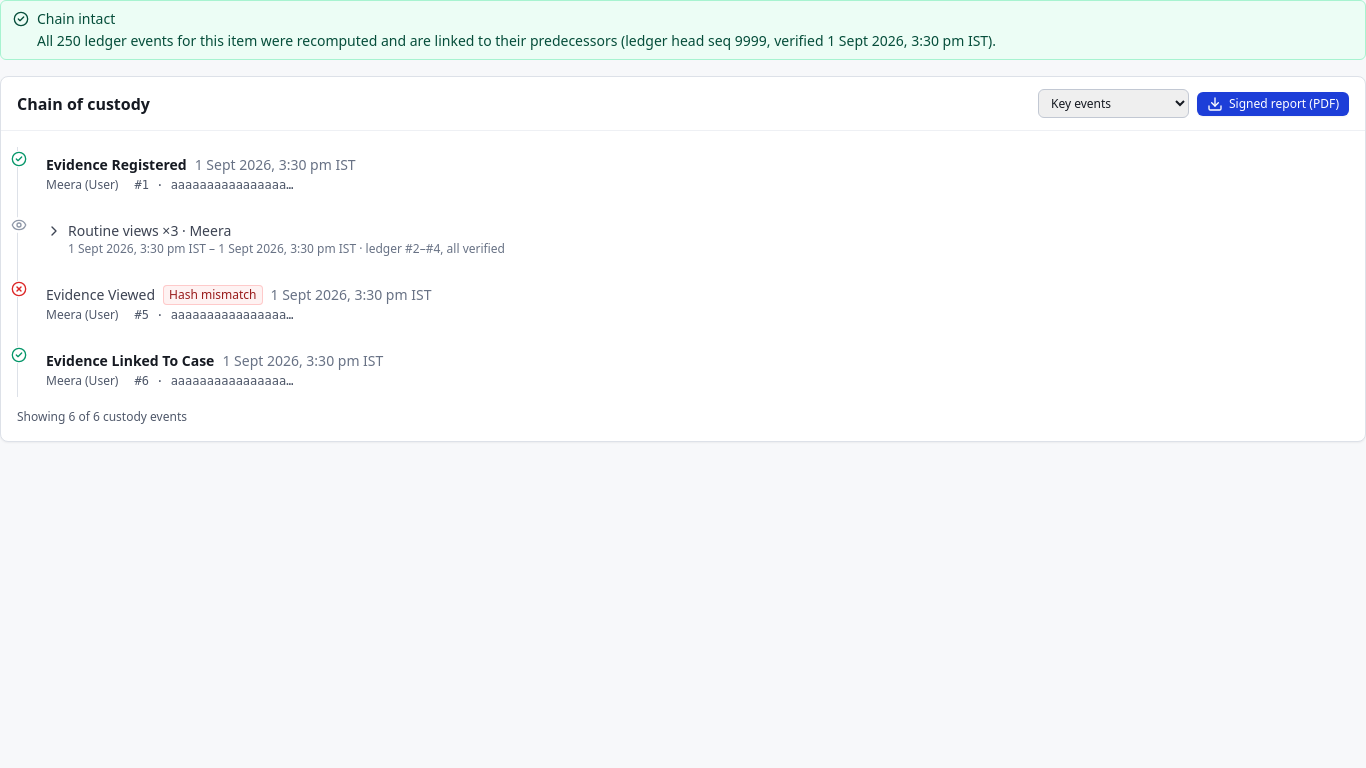
CustodyTab key events › collapses runs of routine views between milestones, never milestones or events that do not verify
Expected: the text "Evidence Registered" is shown, left=46, top=155, right=187, bottom=175
Expected: the text "Evidence Linked To Case" is shown, left=46, top=351, right=214, bottom=371
Click the button "Routine views ×3 · Meera" at (150, 230), box left=38, top=213, right=1349, bottom=265
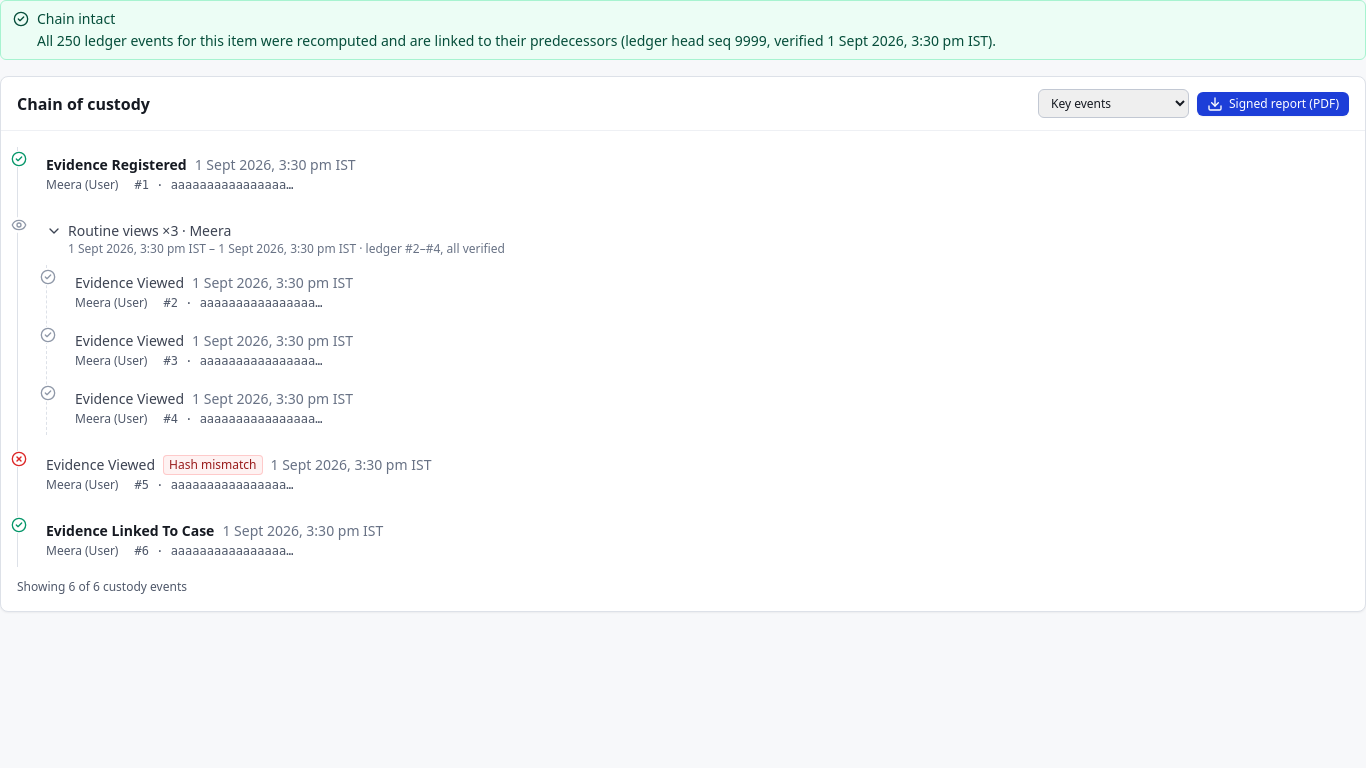
Expected: the text "Evidence Viewed" is shown 4 times, left=75, top=273, right=184, bottom=293; left=75, top=331, right=184, bottom=351; left=75, top=389, right=184, bottom=409; left=46, top=455, right=155, bottom=475
Select "Every custody event" in the dropdown named "Show" at (1114, 104), box left=1038, top=89, right=1189, bottom=118
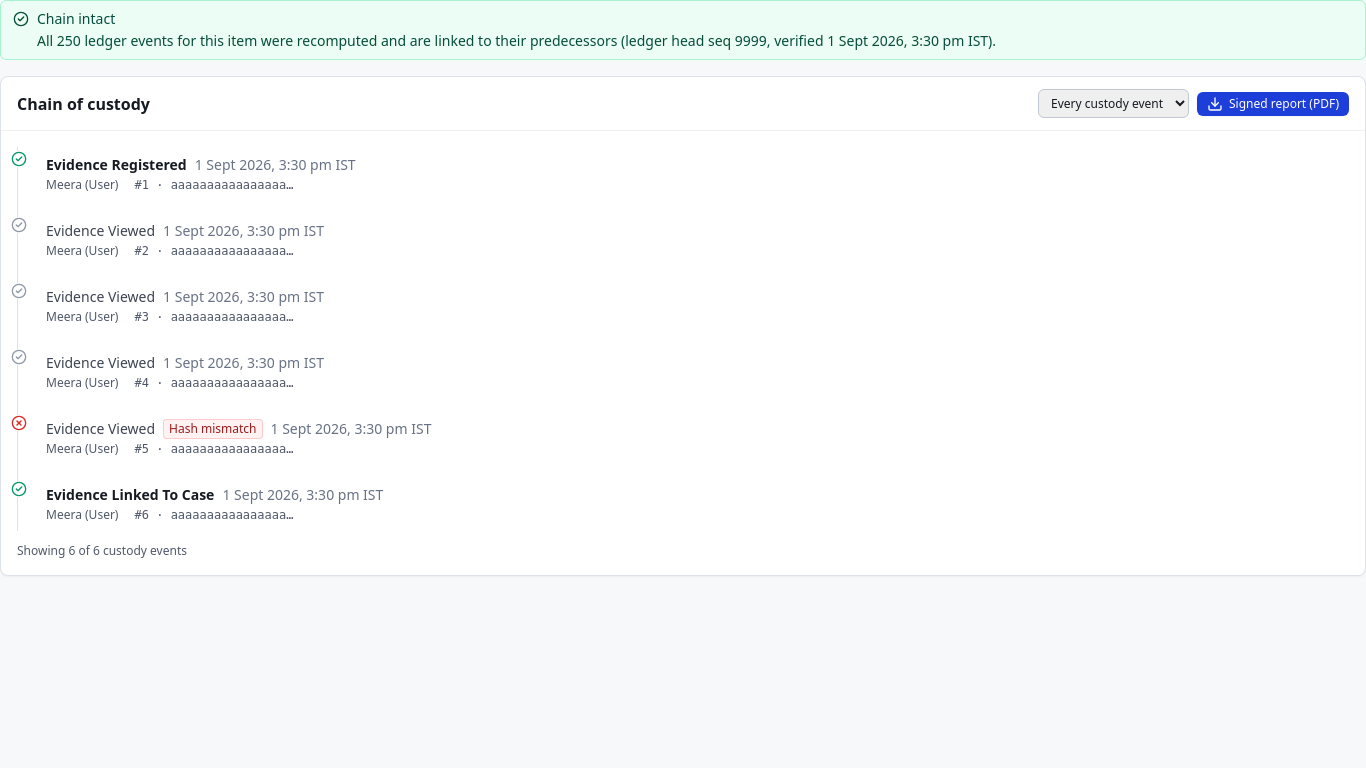
Expected: the button "×3" is gone
